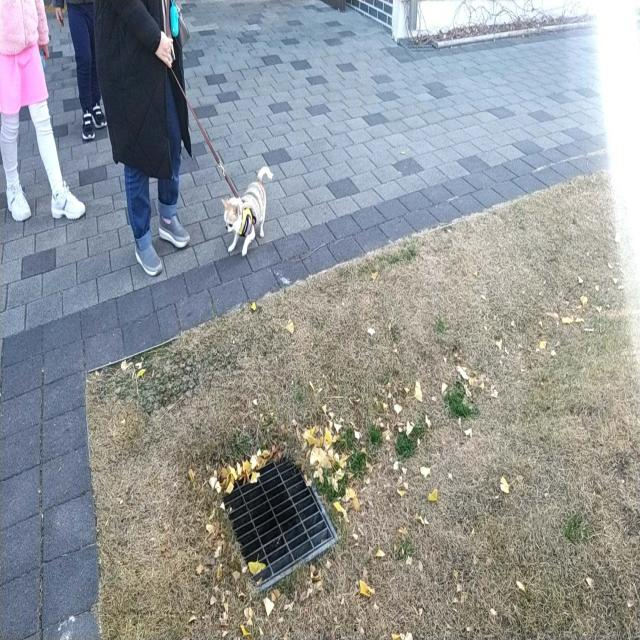Leashed_Dog: (124, 49, 274, 258)
